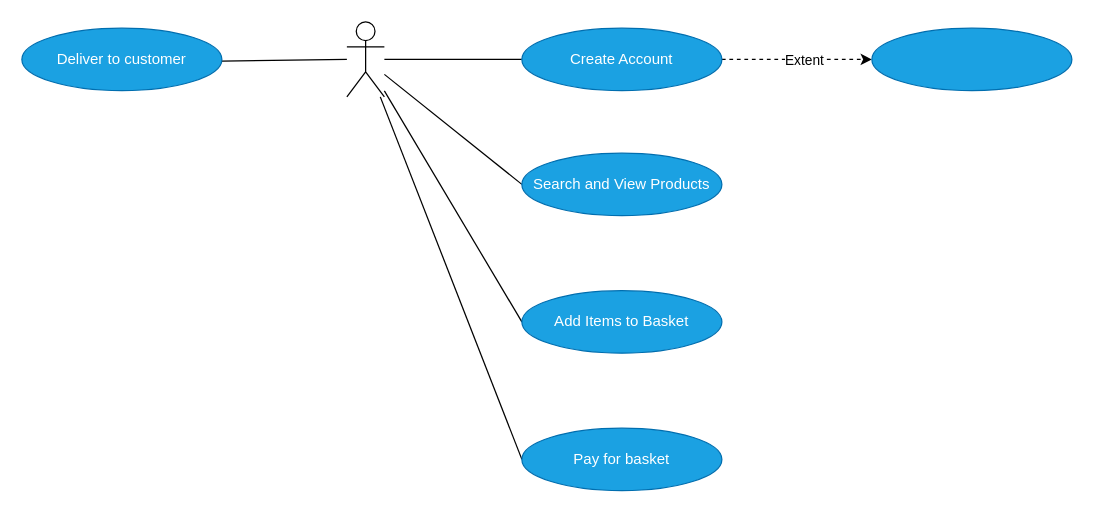
The diagram is 1094 pixels wide and 513 high, and some of its shapes have lost their labels. Here are the shapes that lost their labels. From the top down, the centre of each, then its label:
At pixel 365 59: "Customer".
At pixel 971 59: "User Login".
